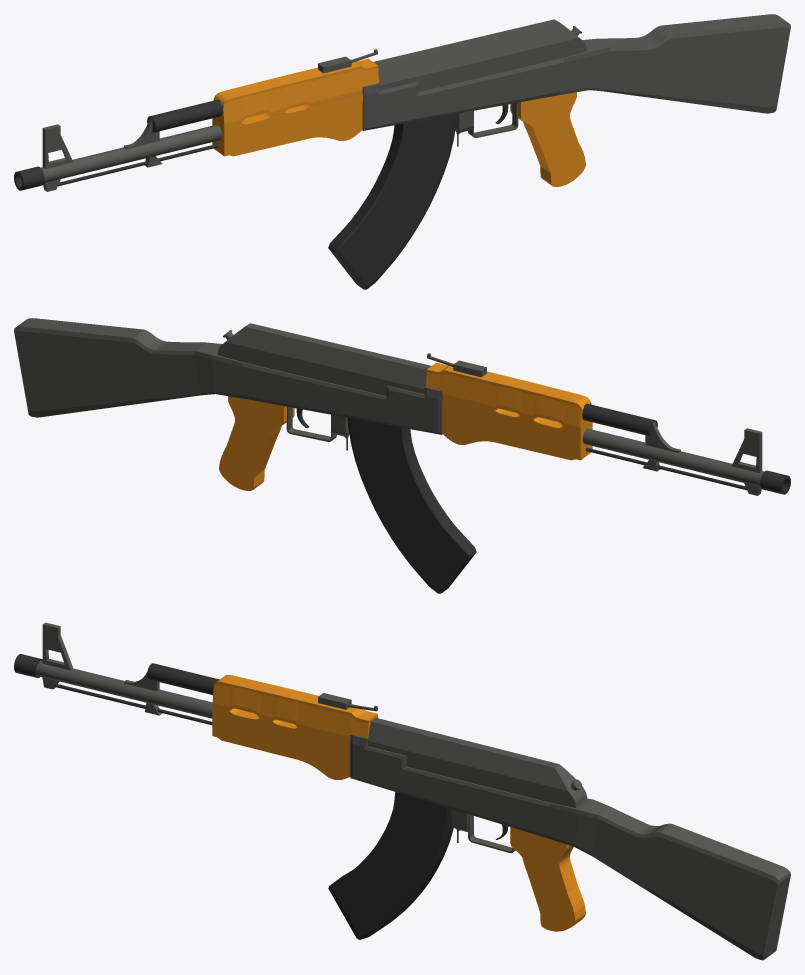
3 renders of one model, top to bottom at view 1: azimuth 30°, elevation 25°; view 2: azimuth 150°, elevation 25°; view 3: azimuth 330°, elevation 25°, orthographic.
Visible parts, largest first — view 1: AK47; view 2: AK47; view 3: AK47.
Boxes of the visible parts, x1=… form: AK47: x1=14, y1=14, x2=790, y2=289; AK47: x1=14, y1=318, x2=790, y2=593; AK47: x1=14, y1=622, x2=790, y2=960.
Bounding box in the file's own units: 491 × 145 × 15.93.
